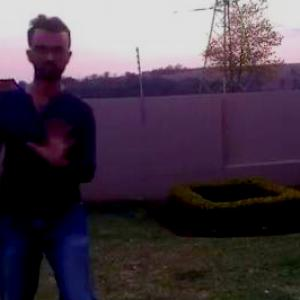follow_hand: (24, 114, 82, 166)
